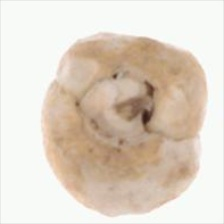L3: (76, 72, 160, 141)
L4: (40, 32, 209, 217)
